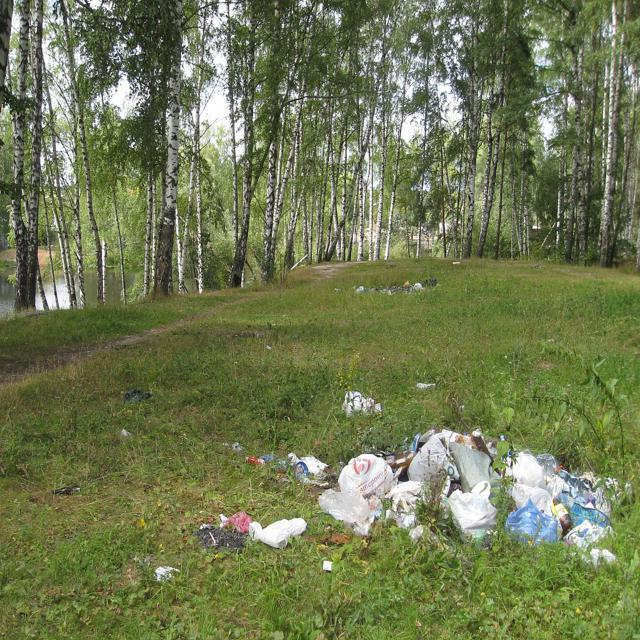lixeira: (326, 431, 630, 551), (194, 510, 306, 550), (247, 444, 326, 481), (352, 277, 439, 296), (338, 387, 384, 417)
